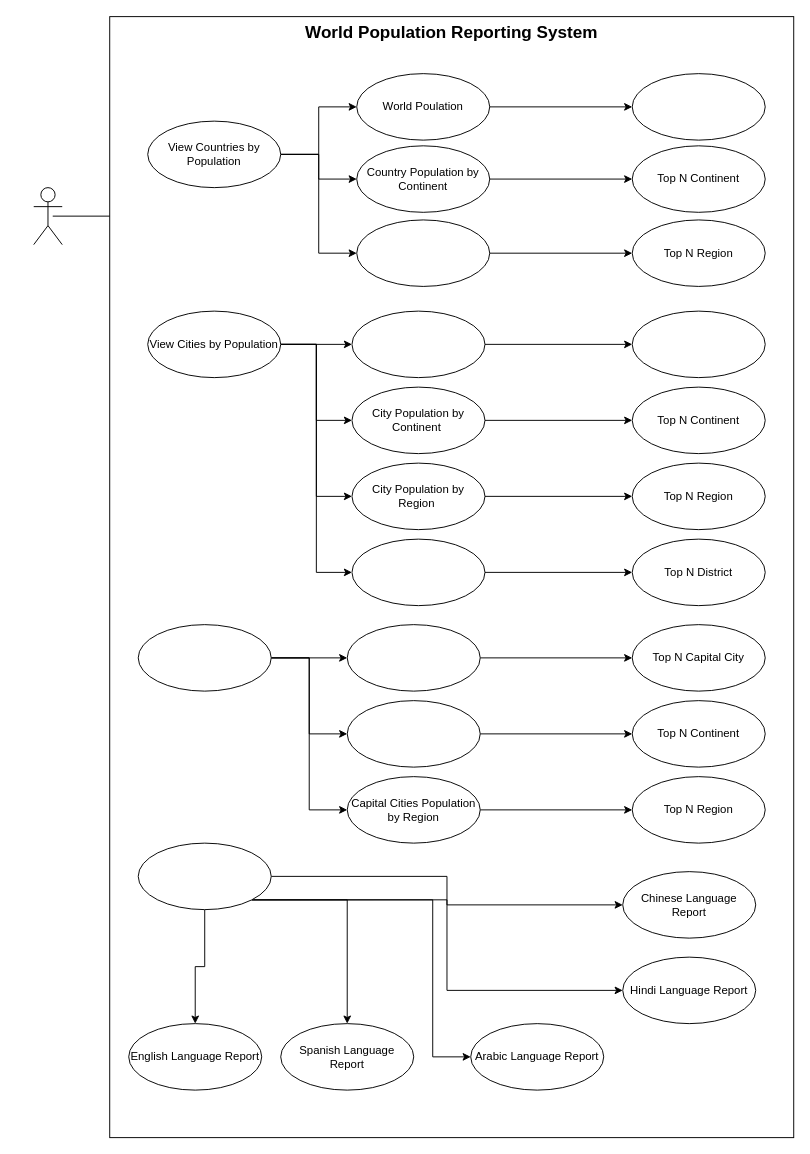
Image size: 810x1154. Some labels were removed from this diagram. The shapes that lost their labels are listed below. From the top down, each one's centre as x and y in pixels, then its label:
At pixel 698 106: "Top N Country".
At pixel 47 216: "Data Analyst".
At pixel 423 252: "Country Population by Region".
At pixel 418 344: "City World Population".
At pixel 698 344: "Top N City".
At pixel 418 572: "City Population by District".
At pixel 204 657: "Capital Cities Population".
At pixel 413 657: "Capital Cities by World Population".
At pixel 413 733: "Capital Cities Population by Continent".
At pixel 204 876: "View language statistics".
